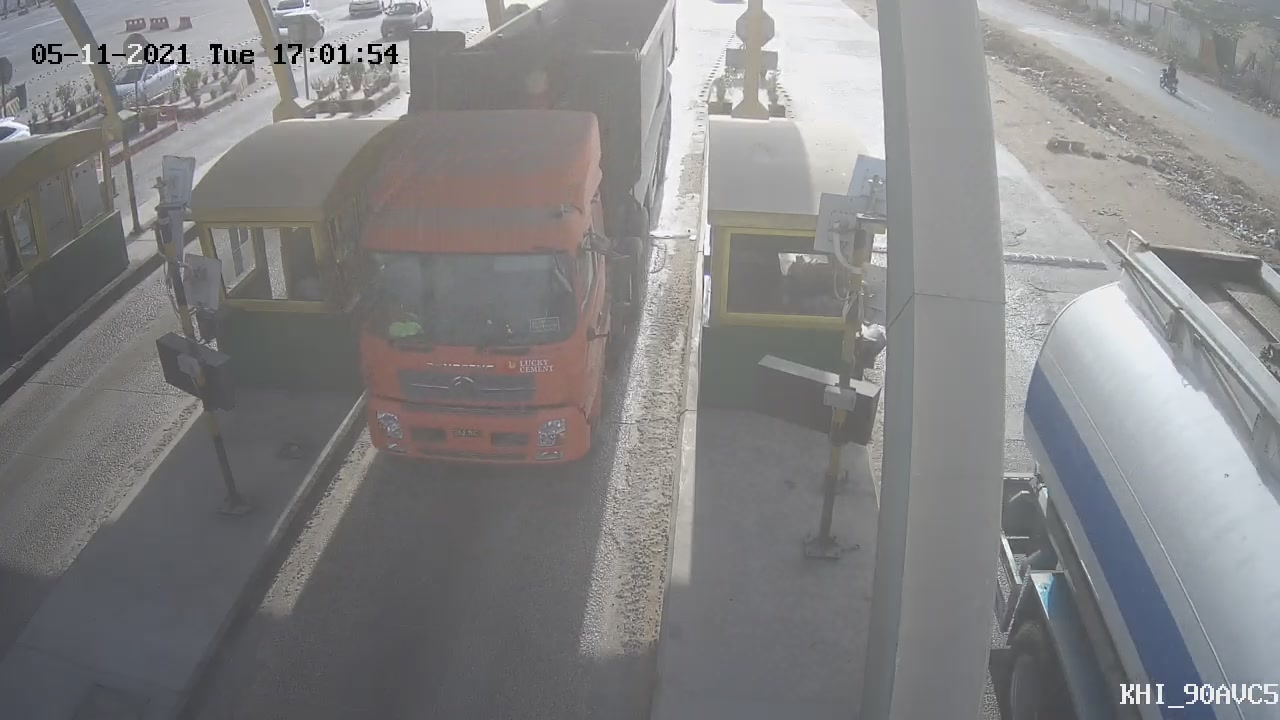F6: (298, 1, 700, 491)
